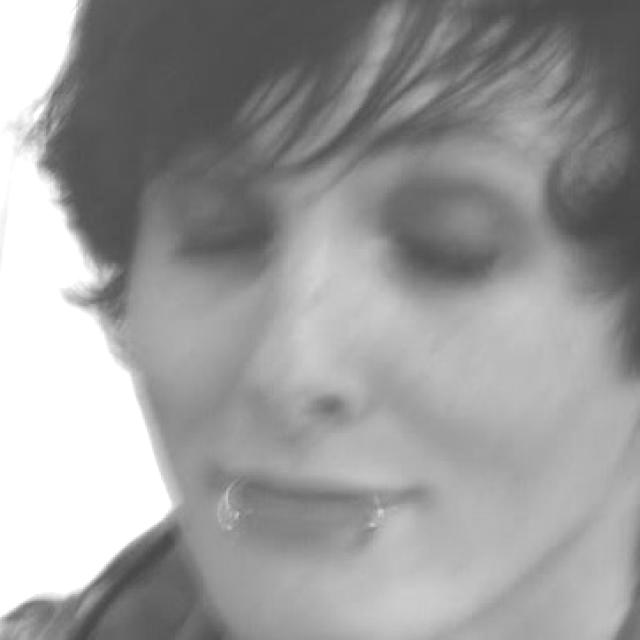real: (117, 0, 640, 640), (162, 174, 531, 302)
